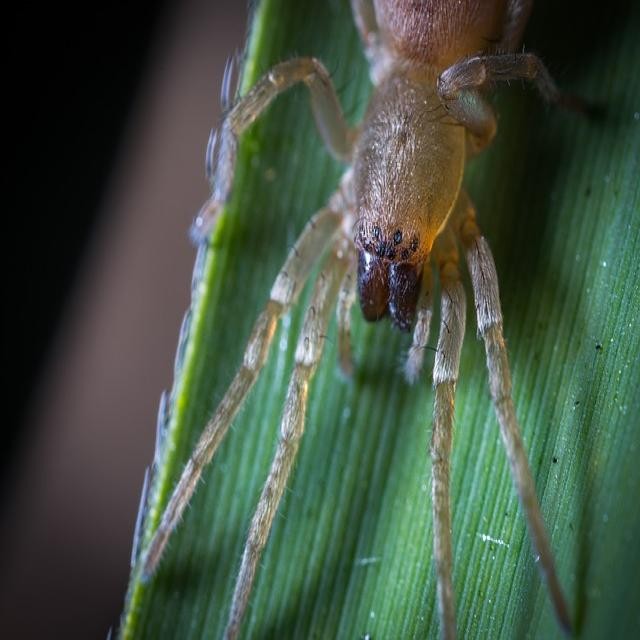spyder: (141, 0, 571, 637)
